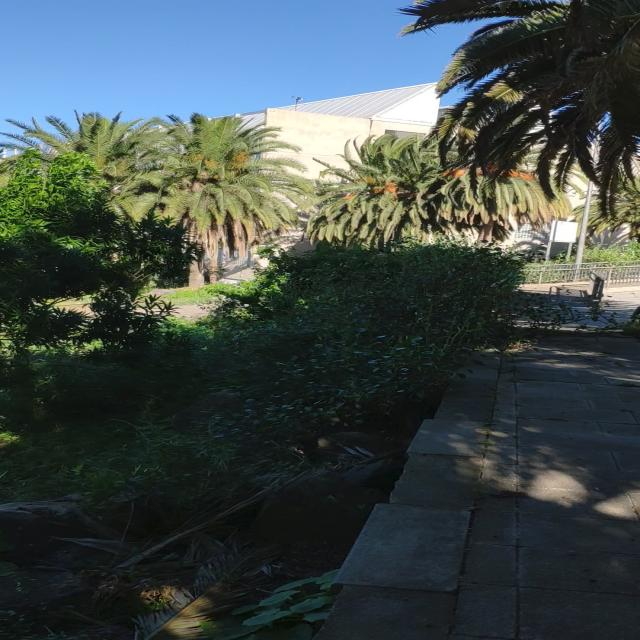Palm-Trees: (111, 117, 296, 287)
